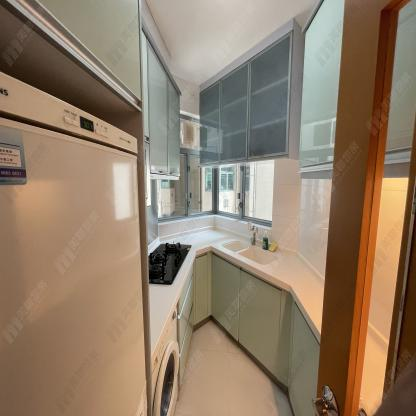Cupboard: (192, 250, 322, 416), (196, 31, 292, 166), (297, 1, 344, 176), (140, 29, 182, 176)
Exhaust Hood: (151, 172, 179, 180)
Fridge: (0, 68, 149, 415)
Sink: (222, 238, 282, 267)
Stove: (148, 240, 194, 285)
